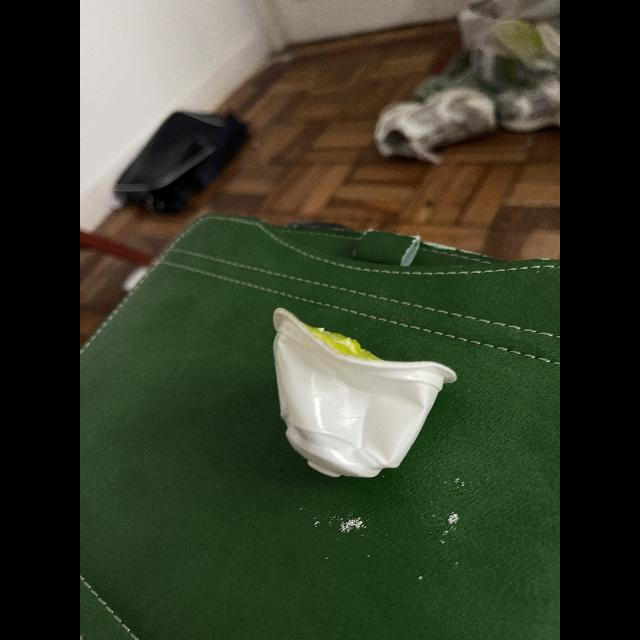damaged_capsule: (248, 304, 460, 492)
